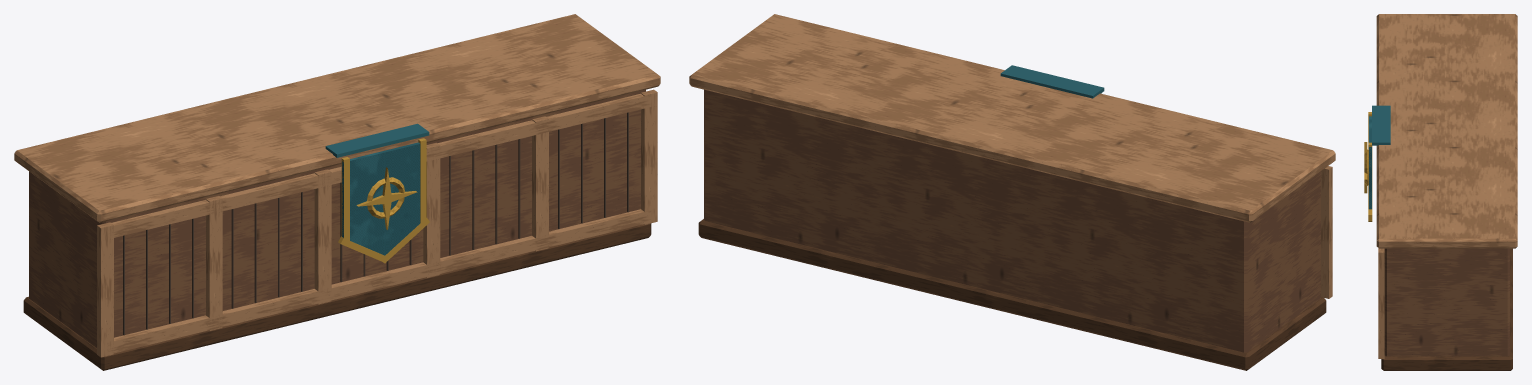
File: guild_reception_counter.glb
3 renders of one model, left to right at view 1: azimuth 30°, elevation 25°; view 2: azimuth 150°, elevation 25°; view 3: azimuth 270°, elevation 25°, orthographic. The views are drawn at different scales.
Visible parts, largest first — view 1: guild_reception_counter_counter_shell, guild_reception_counter_countertop, guild_reception_counter_front_panels, guild_reception_counter_guild_cloth; view 2: guild_reception_counter_counter_shell, guild_reception_counter_countertop, guild_reception_counter_front_panels, guild_reception_counter_guild_cloth; view 3: guild_reception_counter_countertop, guild_reception_counter_counter_shell, guild_reception_counter_guild_cloth, guild_reception_counter_front_panels.
Part boxes in pixels (x1,y1,x2,y2): guild_reception_counter_counter_shell: [23, 89, 651, 370]; guild_reception_counter_countertop: [14, 14, 660, 222]; guild_reception_counter_front_panels: [97, 89, 657, 357]; guild_reception_counter_guild_cloth: [325, 123, 429, 263]; guild_reception_counter_counter_shell: [698, 89, 1326, 370]; guild_reception_counter_countertop: [689, 14, 1335, 222]; guild_reception_counter_front_panels: [1321, 166, 1332, 298]; guild_reception_counter_guild_cloth: [1000, 65, 1104, 98]; guild_reception_counter_countertop: [1376, 14, 1517, 248]; guild_reception_counter_counter_shell: [1381, 248, 1512, 370]; guild_reception_counter_guild_cloth: [1364, 105, 1390, 221]; guild_reception_counter_front_panels: [1378, 248, 1384, 358].
Size of what is drawn, in the model's own units: 3.42 by 0.965 by 0.98.
6 materials, 6 textured.
